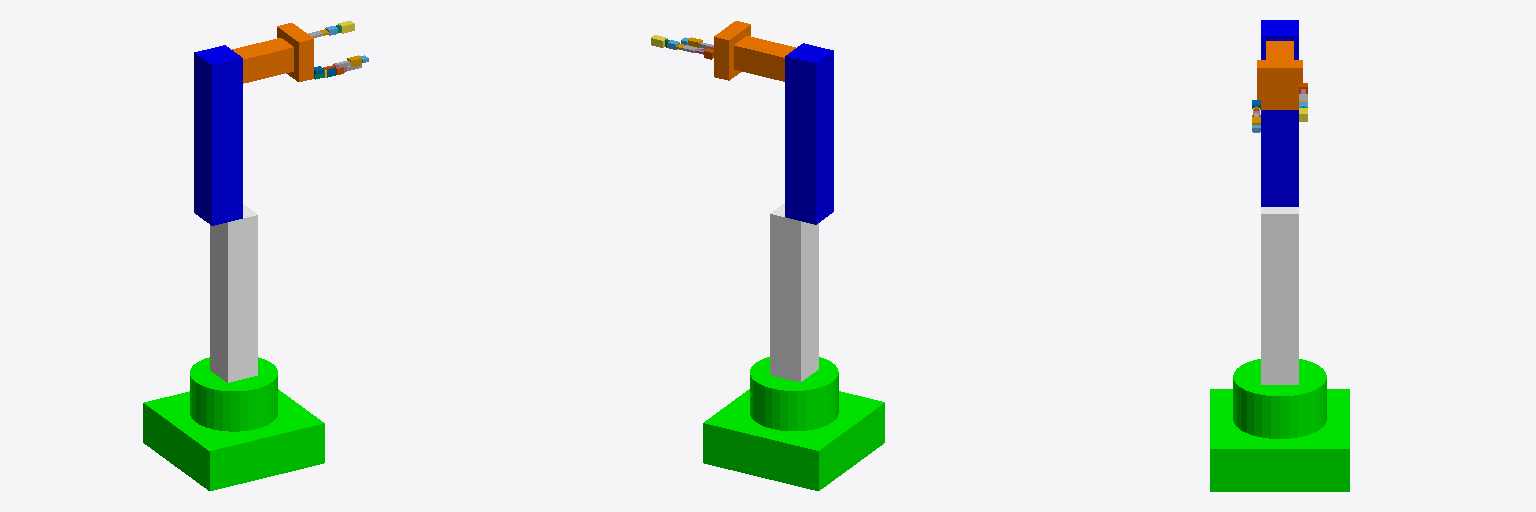
The robot description file, URDF, robot "robot":
<?xml version='1.0' encoding='utf-8'?>
<robot name="robot">
  <link name="base_link">
    <visual>
      <origin xyz="0 0 0.125" rpy="0 0 0" />
      <geometry>
        <box size="0.75 0.75 0.25" />
      </geometry>
      <material name="green" />
    </visual>
    <visual>
      <origin xyz="0 0 0.375" rpy="0 0 0" />
      <geometry>
        <cylinder length="0.25" radius="0.25" />
      </geometry>
      <material name="green">
        <color rgba="0 1 0 1" />
      </material>
    </visual>
    <collision>
      <geometry>
        <box size="0.75 0.75 0.5" />
      </geometry>
    </collision>
    <inertial>
      <mass value="0.5" />
      <inertia ixx="0.034" ixy="0.0" ixz="0.0" iyy="0.034" iyz="0.0" izz="0.034" />
    </inertial>
  </link>
  <link name="support_link">
    <visual>
      <origin xyz="0 0 0.5" rpy="0 0 0" />
      <geometry>
        <box size="0.2 0.2 1" />
      </geometry>
      <material name="white">
        <color rgba="1 1 1 1" />
      </material>
    </visual>
    <collision>
      <geometry>
        <box size="0.2 0.2 1" />
      </geometry>
    </collision>
    <inertial>
      <mass value="0.1" />
      <inertia ixx="0.01" ixy="0.0" ixz="0.0" iyy="0.01" iyz="0.0" izz="0.01" />
    </inertial>
  </link>
  <joint name="support_joint" type="continuous">
    <origin xyz="0 0 0.5" rpy="0 0 0" />
    <parent link="base_link" />
    <child link="support_link" />
    <axis xyz="0 0 1" />
  </joint>
  <link name="arm_link">
    <visual>
      <origin xyz="0 0 0.5" rpy="0 0 0" />
      <geometry>
        <box size="0.2 0.2 1" />
      </geometry>
      <material name="blue">
        <color rgba="0 0 1 1" />
      </material>
    </visual>
    <collision>
      <geometry>
        <box size="0.2 0.2 1" />
      </geometry>
    </collision>
    <inertial>
      <mass value="0.1" />
      <inertia ixx="0.01" ixy="0.0" ixz="0.0" iyy="0.01" iyz="0.0" izz="0.01" />
    </inertial>
  </link>
  <joint name="arm_joint" type="revolute">
    <origin xyz="-0.1 0 1" rpy="0 0 0" />
    <parent link="support_link" />
    <child link="arm_link" />
    <axis xyz="0 1 0" />
    <limit lower="-3.14" upper="3.14" effort="1.0" velocity="1.0" />
  </joint>
  <link name="wrist_link">
    <visual>
      <origin xyz="0 0 0.25" rpy="0 0 0" />
      <geometry>
        <box size="0.15 0.15 0.5" />
      </geometry>
      <material name="orange">
        <color rgba="1 0.5 0 1" />
      </material>
    </visual>
    <collision>
      <geometry>
        <box size="0.15 0.15 0.5" />
      </geometry>
    </collision>
    <inertial>
      <mass value="0.1" />
      <inertia ixx="0.01" ixy="0.0" ixz="0.0" iyy="0.01" iyz="0.0" izz="0.01" />
    </inertial>
  </link>
  <joint name="wrist_joint" type="fixed">
    <origin xyz="0 0 0.9" rpy="0 1.571 0" />
    <parent link="arm_link" />
    <child link="wrist_link" />
  </joint>
  <link name="palm_link">
    <visual>
      <origin xyz="0 0 0.05" rpy="0 0 0" />
      <geometry>
        <box size="0.25 0.25 0.1" />
      </geometry>
      <material name="orange" />
    </visual>
    <collision>
      <geometry>
        <box size="0.25 0.25 0.1" />
      </geometry>
    </collision>
    <inertial>
      <mass value="0.1" />
      <inertia ixx="0.01" ixy="0.0" ixz="0.0" iyy="0.01" iyz="0.0" izz="0.01" />
    </inertial>
  </link>
  <joint name="palm_joint" type="fixed">
    <origin xyz="0 0 0.45" rpy="0 0 0" />
    <parent link="wrist_link" />
    <child link="palm_link" />
  </joint>
  <link name="finger_link_0_0">
    <visual>
      <origin xyz="0 0 0.0235" rpy="0 0 0" />
      <geometry>
        <box size="0.043 0.046 0.047" />
      </geometry>
    </visual>
    <collision>
      <geometry>
        <box size="0.043 0.046 0.047" />
      </geometry>
    </collision>
    <inertial>
      <mass value="0.028" />
      <inertia ixx="0.0" iyy="0.0" izz="0.0" ixy="0" ixz="0" iyz="0" />
    </inertial>
  </link>
  <joint name="finger_joint_palm_link_to_finger_link_0_0" type="revolute">
    <origin xyz="-0.013 0.125 0.1" rpy="0 0 0" />
    <parent link="palm_link" />
    <child link="finger_link_0_0" />
    <axis xyz="1.0 1.0 0.0" />
    <limit lower="-3.142" upper="3.142" effort="10" velocity="10" />
  </joint>
  <link name="finger_link_0_1">
    <visual>
      <origin xyz="0 0 0.0325" rpy="0 0 0" />
      <geometry>
        <box size="0.014 0.028 0.065" />
      </geometry>
    </visual>
    <collision>
      <geometry>
        <box size="0.014 0.028 0.065" />
      </geometry>
    </collision>
    <inertial>
      <mass value="0.008" />
      <inertia ixx="0.0" iyy="0.0" izz="0.0" ixy="0" ixz="0" iyz="0" />
    </inertial>
  </link>
  <joint name="finger_joint_finger_link_0_0_to_finger_link_0_1" type="revolute">
    <origin xyz="0.0 0.0 0.047" rpy="0 0 0" />
    <parent link="finger_link_0_0" />
    <child link="finger_link_0_1" />
    <axis xyz="0.0 1.0 0.0" />
    <limit lower="-3.142" upper="3.142" effort="10" velocity="10" />
  </joint>
  <link name="finger_link_0_2">
    <visual>
      <origin xyz="0 0 0.039" rpy="0 0 0" />
      <geometry>
        <box size="0.015 0.046 0.078" />
      </geometry>
    </visual>
    <collision>
      <geometry>
        <box size="0.015 0.046 0.078" />
      </geometry>
    </collision>
    <inertial>
      <mass value="0.016" />
      <inertia ixx="0.0" iyy="0.0" izz="0.0" ixy="0" ixz="0" iyz="0" />
    </inertial>
  </link>
  <joint name="finger_joint_finger_link_0_1_to_finger_link_0_2" type="revolute">
    <origin xyz="0.0 0.0 0.065" rpy="0 0 0" />
    <parent link="finger_link_0_1" />
    <child link="finger_link_0_2" />
    <axis xyz="0.0 1.0 0.0" />
    <limit lower="-3.142" upper="3.142" effort="10" velocity="10" />
  </joint>
  <link name="finger_link_0_3">
    <visual>
      <origin xyz="0 0 0.02" rpy="0 0 0" />
      <geometry>
        <box size="0.013 0.049 0.04" />
      </geometry>
    </visual>
    <collision>
      <geometry>
        <box size="0.013 0.049 0.04" />
      </geometry>
    </collision>
    <inertial>
      <mass value="0.008" />
      <inertia ixx="0.0" iyy="0.0" izz="0.0" ixy="0" ixz="0" iyz="0" />
    </inertial>
  </link>
  <joint name="finger_joint_finger_link_0_2_to_finger_link_0_3" type="revolute">
    <origin xyz="0.0 0.0 0.078" rpy="0 0 0" />
    <parent link="finger_link_0_2" />
    <child link="finger_link_0_3" />
    <axis xyz="1.0 0.0 0.0" />
    <limit lower="-3.142" upper="3.142" effort="10" velocity="10" />
  </joint>
  <link name="finger_link_0_4">
    <visual>
      <origin xyz="0 0 0.029" rpy="0 0 0" />
      <geometry>
        <box size="0.034 0.044 0.058" />
      </geometry>
    </visual>
    <collision>
      <geometry>
        <box size="0.034 0.044 0.058" />
      </geometry>
    </collision>
    <inertial>
      <mass value="0.026" />
      <inertia ixx="0.0" iyy="0.0" izz="0.0" ixy="0" ixz="0" iyz="0" />
    </inertial>
  </link>
  <joint name="finger_joint_finger_link_0_3_to_finger_link_0_4" type="revolute">
    <origin xyz="0.0 0.0 0.04" rpy="0 0 0" />
    <parent link="finger_link_0_3" />
    <child link="finger_link_0_4" />
    <axis xyz="0.0 1.0 0.0" />
    <limit lower="-3.142" upper="3.142" effort="10" velocity="10" />
  </joint>
  <link name="finger_link_0_5">
    <visual>
      <origin xyz="0 0 0.0125" rpy="0 0 0" />
      <geometry>
        <box size="0.045 0.013 0.025" />
      </geometry>
    </visual>
    <collision>
      <geometry>
        <box size="0.045 0.013 0.025" />
      </geometry>
    </collision>
    <inertial>
      <mass value="0.004" />
      <inertia ixx="0.0" iyy="0.0" izz="0.0" ixy="0" ixz="0" iyz="0" />
    </inertial>
  </link>
  <joint name="finger_joint_finger_link_0_4_to_finger_link_0_5" type="revolute">
    <origin xyz="0.0 0.0 0.058" rpy="0 0 0" />
    <parent link="finger_link_0_4" />
    <child link="finger_link_0_5" />
    <axis xyz="1.0 1.0 0.0" />
    <limit lower="-3.142" upper="3.142" effort="10" velocity="10" />
  </joint>
  <link name="finger_link_0_6">
    <visual>
      <origin xyz="0 0 0.0415" rpy="0 0 0" />
      <geometry>
        <box size="0.045 0.048 0.083" />
      </geometry>
    </visual>
    <collision>
      <geometry>
        <box size="0.045 0.048 0.083" />
      </geometry>
    </collision>
    <inertial>
      <mass value="0.054" />
      <inertia ixx="0.0" iyy="0.0" izz="0.0" ixy="0" ixz="0" iyz="0" />
    </inertial>
  </link>
  <joint name="finger_joint_finger_link_0_5_to_finger_link_0_6" type="revolute">
    <origin xyz="0.0 0.0 0.025" rpy="0 0 0" />
    <parent link="finger_link_0_5" />
    <child link="finger_link_0_6" />
    <axis xyz="0.0 1.0 0.0" />
    <limit lower="-3.142" upper="3.142" effort="10" velocity="10" />
  </joint>
  <link name="finger_link_1_0">
    <visual>
      <origin xyz="0 0 0.0265" rpy="0 0 0" />
      <geometry>
        <box size="0.024 0.047 0.053" />
      </geometry>
    </visual>
    <collision>
      <geometry>
        <box size="0.024 0.047 0.053" />
      </geometry>
    </collision>
    <inertial>
      <mass value="0.018" />
      <inertia ixx="0.0" iyy="0.0" izz="0.0" ixy="0" ixz="0" iyz="0" />
    </inertial>
  </link>
  <joint name="finger_joint_palm_link_to_finger_link_1_0" type="revolute">
    <origin xyz="0.079 -0.125 0.1" rpy="0 0 0" />
    <parent link="palm_link" />
    <child link="finger_link_1_0" />
    <axis xyz="1.0 1.0 0.0" />
    <limit lower="-3.142" upper="3.142" effort="10" velocity="10" />
  </joint>
  <link name="finger_link_1_1">
    <visual>
      <origin xyz="0 0 0.0385" rpy="0 0 0" />
      <geometry>
        <box size="0.011 0.02 0.077" />
      </geometry>
    </visual>
    <collision>
      <geometry>
        <box size="0.011 0.02 0.077" />
      </geometry>
    </collision>
    <inertial>
      <mass value="0.005" />
      <inertia ixx="0.0" iyy="0.0" izz="0.0" ixy="0" ixz="0" iyz="0" />
    </inertial>
  </link>
  <joint name="finger_joint_finger_link_1_0_to_finger_link_1_1" type="revolute">
    <origin xyz="0.0 0.0 0.053" rpy="0 0 0" />
    <parent link="finger_link_1_0" />
    <child link="finger_link_1_1" />
    <axis xyz="0.0 1.0 0.0" />
    <limit lower="-3.142" upper="3.142" effort="10" velocity="10" />
  </joint>
  <link name="finger_link_1_2">
    <visual>
      <origin xyz="0 0 0.011" rpy="0 0 0" />
      <geometry>
        <box size="0.021 0.032 0.022" />
      </geometry>
    </visual>
    <collision>
      <geometry>
        <box size="0.021 0.032 0.022" />
      </geometry>
    </collision>
    <inertial>
      <mass value="0.004" />
      <inertia ixx="0.0" iyy="0.0" izz="0.0" ixy="0" ixz="0" iyz="0" />
    </inertial>
  </link>
  <joint name="finger_joint_finger_link_1_1_to_finger_link_1_2" type="revolute">
    <origin xyz="0.0 0.0 0.077" rpy="0 0 0" />
    <parent link="finger_link_1_1" />
    <child link="finger_link_1_2" />
    <axis xyz="1.0 1.0 0.0" />
    <limit lower="-3.142" upper="3.142" effort="10" velocity="10" />
  </joint>
  <link name="finger_link_1_3">
    <visual>
      <origin xyz="0 0 0.0385" rpy="0 0 0" />
      <geometry>
        <box size="0.022 0.027 0.077" />
      </geometry>
    </visual>
    <collision>
      <geometry>
        <box size="0.022 0.027 0.077" />
      </geometry>
    </collision>
    <inertial>
      <mass value="0.014" />
      <inertia ixx="0.0" iyy="0.0" izz="0.0" ixy="0" ixz="0" iyz="0" />
    </inertial>
  </link>
  <joint name="finger_joint_finger_link_1_2_to_finger_link_1_3" type="revolute">
    <origin xyz="0.0 0.0 0.022" rpy="0 0 0" />
    <parent link="finger_link_1_2" />
    <child link="finger_link_1_3" />
    <axis xyz="0.0 1.0 0.0" />
    <limit lower="-3.142" upper="3.142" effort="10" velocity="10" />
  </joint>
  <link name="finger_link_1_4">
    <visual>
      <origin xyz="0 0 0.0365" rpy="0 0 0" />
      <geometry>
        <box size="0.042 0.043 0.073" />
      </geometry>
    </visual>
    <collision>
      <geometry>
        <box size="0.042 0.043 0.073" />
      </geometry>
    </collision>
    <inertial>
      <mass value="0.04" />
      <inertia ixx="0.0" iyy="0.0" izz="0.0" ixy="0" ixz="0" iyz="0" />
    </inertial>
  </link>
  <joint name="finger_joint_finger_link_1_3_to_finger_link_1_4" type="revolute">
    <origin xyz="0.0 0.0 0.077" rpy="0 0 0" />
    <parent link="finger_link_1_3" />
    <child link="finger_link_1_4" />
    <axis xyz="1.0 0.0 0.0" />
    <limit lower="-3.142" upper="3.142" effort="10" velocity="10" />
  </joint>
  <link name="finger_link_1_5">
    <visual>
      <origin xyz="0 0 0.0205" rpy="0 0 0" />
      <geometry>
        <box size="0.022 0.045 0.041" />
      </geometry>
    </visual>
    <collision>
      <geometry>
        <box size="0.022 0.045 0.041" />
      </geometry>
    </collision>
    <inertial>
      <mass value="0.012" />
      <inertia ixx="0.0" iyy="0.0" izz="0.0" ixy="0" ixz="0" iyz="0" />
    </inertial>
  </link>
  <joint name="finger_joint_finger_link_1_4_to_finger_link_1_5" type="revolute">
    <origin xyz="0.0 0.0 0.073" rpy="0 0 0" />
    <parent link="finger_link_1_4" />
    <child link="finger_link_1_5" />
    <axis xyz="1.0 1.0 0.0" />
    <limit lower="-3.142" upper="3.142" effort="10" velocity="10" />
  </joint>
  <link name="finger_link_2_0">
    <visual>
      <origin xyz="0 0 0.03" rpy="0 0 0" />
      <geometry>
        <box size="0.039 0.018 0.06" />
      </geometry>
    </visual>
    <collision>
      <geometry>
        <box size="0.039 0.018 0.06" />
      </geometry>
    </collision>
    <inertial>
      <mass value="0.013" />
      <inertia ixx="0.0" iyy="0.0" izz="0.0" ixy="0" ixz="0" iyz="0" />
    </inertial>
  </link>
  <joint name="finger_joint_palm_link_to_finger_link_2_0" type="revolute">
    <origin xyz="0.107 -0.125 0.1" rpy="0 0 0" />
    <parent link="palm_link" />
    <child link="finger_link_2_0" />
    <axis xyz="1.0 1.0 0.0" />
    <limit lower="-3.142" upper="3.142" effort="10" velocity="10" />
  </joint>
  <link name="finger_link_2_1">
    <visual>
      <origin xyz="0 0 0.0075" rpy="0 0 0" />
      <geometry>
        <box size="0.046 0.036 0.015" />
      </geometry>
    </visual>
    <collision>
      <geometry>
        <box size="0.046 0.036 0.015" />
      </geometry>
    </collision>
    <inertial>
      <mass value="0.007" />
      <inertia ixx="0.0" iyy="0.0" izz="0.0" ixy="0" ixz="0" iyz="0" />
    </inertial>
  </link>
  <joint name="finger_joint_finger_link_2_0_to_finger_link_2_1" type="revolute">
    <origin xyz="0.0 0.0 0.06" rpy="0 0 0" />
    <parent link="finger_link_2_0" />
    <child link="finger_link_2_1" />
    <axis xyz="1.0 0.0 0.0" />
    <limit lower="-3.142" upper="3.142" effort="10" velocity="10" />
  </joint>
  <link name="finger_link_2_2">
    <visual>
      <origin xyz="0 0 0.0295" rpy="0 0 0" />
      <geometry>
        <box size="0.048 0.025 0.059" />
      </geometry>
    </visual>
    <collision>
      <geometry>
        <box size="0.048 0.025 0.059" />
      </geometry>
    </collision>
    <inertial>
      <mass value="0.021" />
      <inertia ixx="0.0" iyy="0.0" izz="0.0" ixy="0" ixz="0" iyz="0" />
    </inertial>
  </link>
  <joint name="finger_joint_finger_link_2_1_to_finger_link_2_2" type="revolute">
    <origin xyz="0.0 0.0 0.015" rpy="0 0 0" />
    <parent link="finger_link_2_1" />
    <child link="finger_link_2_2" />
    <axis xyz="1.0 0.0 0.0" />
    <limit lower="-3.142" upper="3.142" effort="10" velocity="10" />
  </joint>
  <link name="finger_link_2_3">
    <visual>
      <origin xyz="0 0 0.025" rpy="0 0 0" />
      <geometry>
        <box size="0.039 0.046 0.05" />
      </geometry>
    </visual>
    <collision>
      <geometry>
        <box size="0.039 0.046 0.05" />
      </geometry>
    </collision>
    <inertial>
      <mass value="0.027" />
      <inertia ixx="0.0" iyy="0.0" izz="0.0" ixy="0" ixz="0" iyz="0" />
    </inertial>
  </link>
  <joint name="finger_joint_finger_link_2_2_to_finger_link_2_3" type="revolute">
    <origin xyz="0.0 0.0 0.059" rpy="0 0 0" />
    <parent link="finger_link_2_2" />
    <child link="finger_link_2_3" />
    <axis xyz="0.0 1.0 0.0" />
    <limit lower="-3.142" upper="3.142" effort="10" velocity="10" />
  </joint>
  <link name="finger_link_2_4">
    <visual>
      <origin xyz="0 0 0.0085" rpy="0 0 0" />
      <geometry>
        <box size="0.031 0.038 0.017" />
      </geometry>
    </visual>
    <collision>
      <geometry>
        <box size="0.031 0.038 0.017" />
      </geometry>
    </collision>
    <inertial>
      <mass value="0.006" />
      <inertia ixx="0.0" iyy="0.0" izz="0.0" ixy="0" ixz="0" iyz="0" />
    </inertial>
  </link>
  <joint name="finger_joint_finger_link_2_3_to_finger_link_2_4" type="revolute">
    <origin xyz="0.0 0.0 0.05" rpy="0 0 0" />
    <parent link="finger_link_2_3" />
    <child link="finger_link_2_4" />
    <axis xyz="0.0 1.0 0.0" />
    <limit lower="-3.142" upper="3.142" effort="10" velocity="10" />
  </joint>
  <link name="finger_link_2_5">
    <visual>
      <origin xyz="0 0 0.049" rpy="0 0 0" />
      <geometry>
        <box size="0.025 0.035 0.098" />
      </geometry>
    </visual>
    <collision>
      <geometry>
        <box size="0.025 0.035 0.098" />
      </geometry>
    </collision>
    <inertial>
      <mass value="0.026" />
      <inertia ixx="0.0" iyy="0.0" izz="0.0" ixy="0" ixz="0" iyz="0" />
    </inertial>
  </link>
  <joint name="finger_joint_finger_link_2_4_to_finger_link_2_5" type="revolute">
    <origin xyz="0.0 0.0 0.017" rpy="0 0 0" />
    <parent link="finger_link_2_4" />
    <child link="finger_link_2_5" />
    <axis xyz="1.0 0.0 0.0" />
    <limit lower="-3.142" upper="3.142" effort="10" velocity="10" />
  </joint>
</robot>

--- Facts derived from the render (not from the file) ---
3 views of the same robot in one strip: view 1: azimuth 30°, elevation 25°; view 2: azimuth 150°, elevation 25°; view 3: azimuth 270°, elevation 25° (orthographic).
Model robot with 24 links and 23 joints (20 revolute, 1 continuous, 2 fixed), rooted at base_link, posed all joints at 0.
Visible links, largest first — view 1: base_link, arm_link, support_link, wrist_link, palm_link; view 2: base_link, arm_link, support_link, wrist_link, palm_link; view 3: base_link, support_link, arm_link, palm_link, wrist_link.
Link boxes in pixels (<box>): base_link: <box>143,357,324,490</box>; arm_link: <box>194,45,242,225</box>; support_link: <box>210,204,257,382</box>; wrist_link: <box>232,38,293,83</box>; palm_link: <box>277,23,313,81</box>; base_link: <box>703,357,884,490</box>; arm_link: <box>785,43,833,224</box>; support_link: <box>770,203,818,382</box>; wrist_link: <box>734,36,795,81</box>; palm_link: <box>714,21,750,80</box>; base_link: <box>1210,359,1349,491</box>; support_link: <box>1261,207,1298,384</box>; arm_link: <box>1261,20,1298,206</box>; palm_link: <box>1257,60,1302,109</box>; wrist_link: <box>1266,41,1293,59</box>.
Bounding box of the posed robot: 1.22 × 0.75 × 2.52 m (x, y, z).
Geometry: primitives only (box / cylinder / sphere), no mesh files.